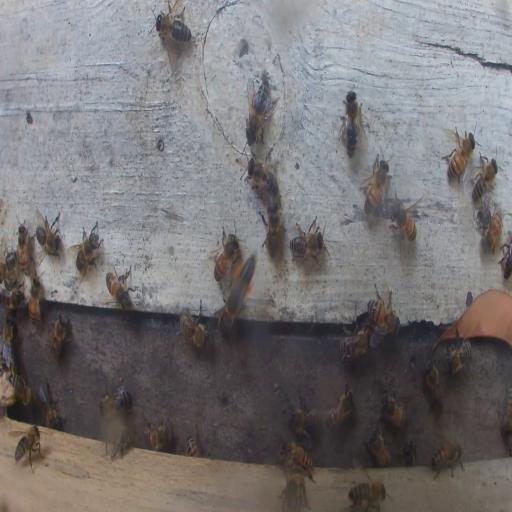nonpollenbee: (72, 220, 104, 281), (245, 78, 275, 143), (443, 128, 477, 184), (361, 154, 390, 213), (242, 153, 278, 200), (156, 5, 192, 51), (389, 192, 419, 246), (470, 152, 500, 206), (259, 196, 285, 258), (341, 87, 364, 155), (211, 225, 240, 278), (178, 305, 210, 350), (289, 218, 323, 260), (14, 424, 42, 472), (34, 212, 63, 258), (367, 296, 398, 338), (348, 478, 386, 512), (326, 383, 354, 429), (98, 377, 130, 417), (289, 400, 321, 439), (275, 442, 315, 472), (430, 440, 463, 476), (379, 387, 406, 430), (280, 473, 309, 511), (366, 426, 392, 468), (106, 268, 132, 309), (339, 327, 369, 362), (423, 361, 444, 407), (482, 207, 502, 254), (104, 429, 136, 458), (50, 312, 69, 360), (144, 419, 172, 450), (9, 367, 32, 404), (498, 384, 512, 442), (445, 342, 472, 372), (16, 223, 32, 272), (27, 274, 42, 326), (39, 385, 58, 423), (500, 229, 512, 279), (2, 284, 25, 310), (2, 247, 18, 283), (41, 398, 60, 428), (2, 316, 16, 355), (186, 433, 203, 457), (401, 442, 417, 466)
pollenbee: (226, 251, 257, 316)
